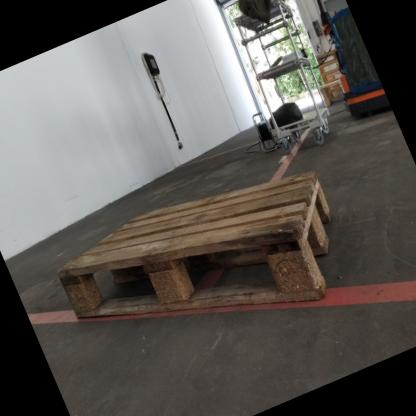BoxFace: (54, 167, 336, 319)
